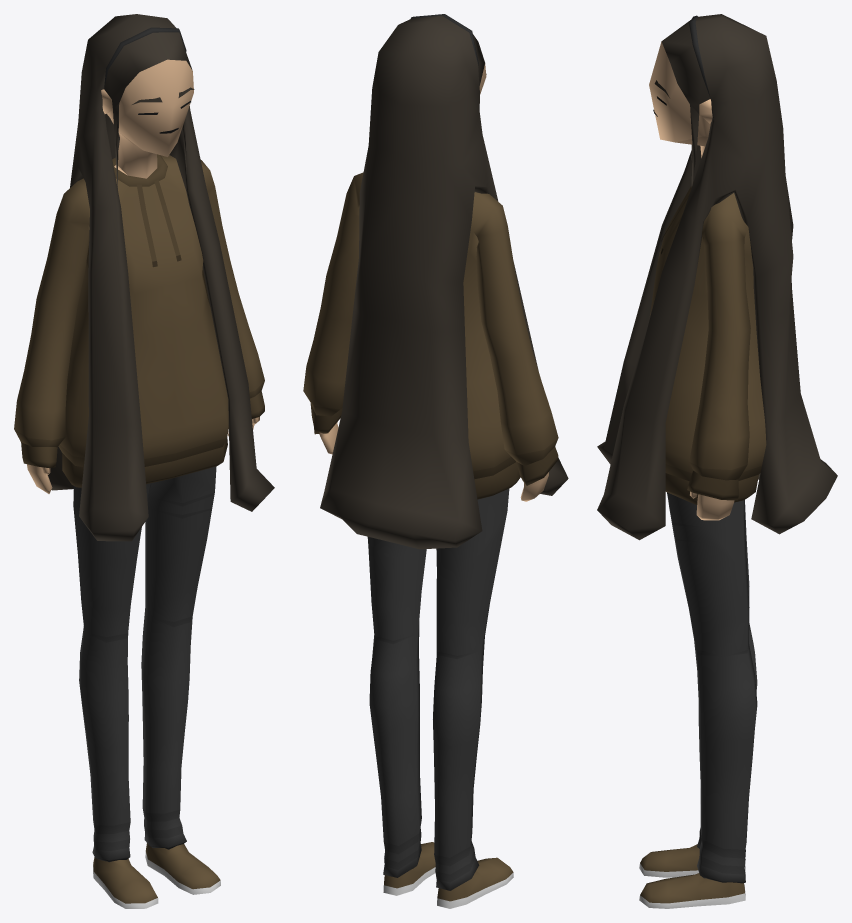
The picture shows the model from 3 angles, left to right: view 1: azimuth 30°, elevation 25°; view 2: azimuth 150°, elevation 25°; view 3: azimuth 270°, elevation 25°; orthographic projection.
Parts seen in each view (by area): view 1: Body.002; view 2: Body.002; view 3: Body.002.
Part boxes in pixels (box(x1,y1,x2,y2)): Body.002: box(14, 14, 274, 908); Body.002: box(303, 14, 568, 908); Body.002: box(597, 14, 837, 908).
Size of the model in its own units: 0.4287 by 1.48 by 0.373.
